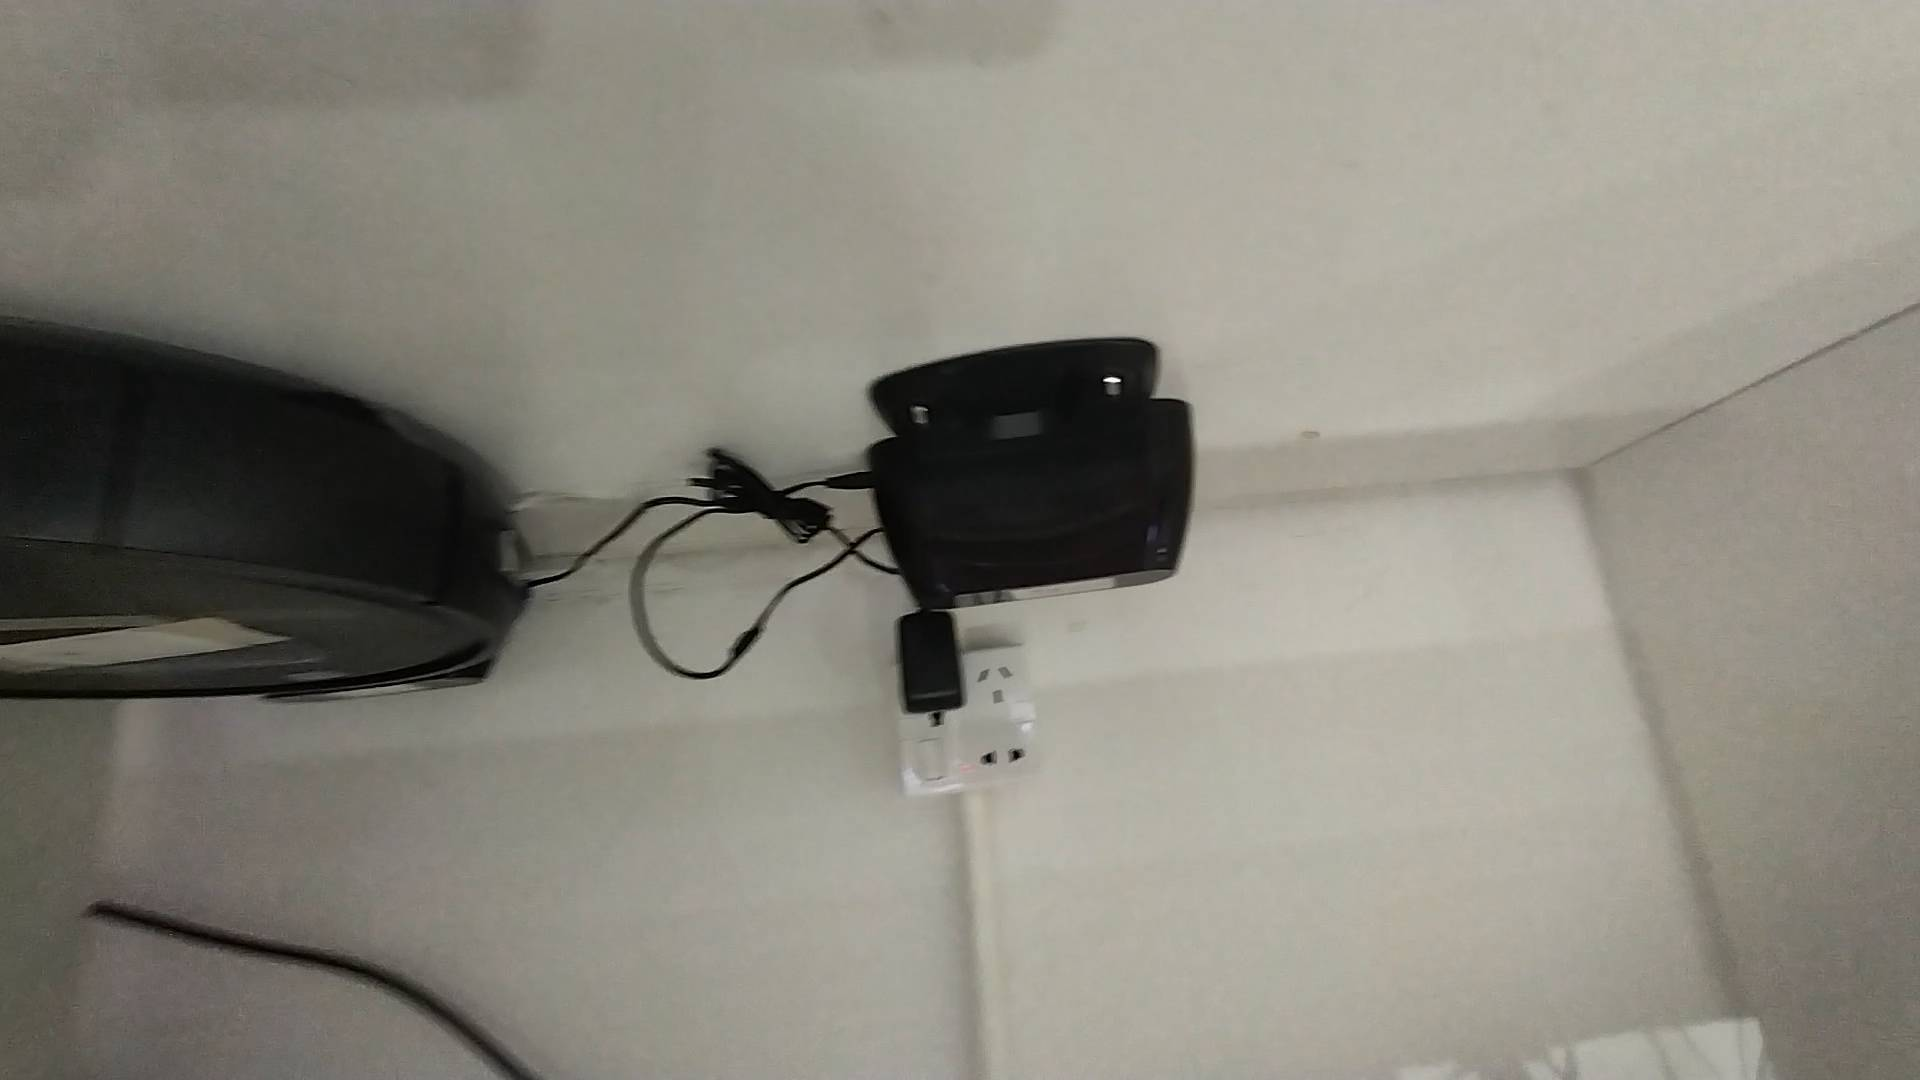recharge seat: (862, 338, 1197, 612)
